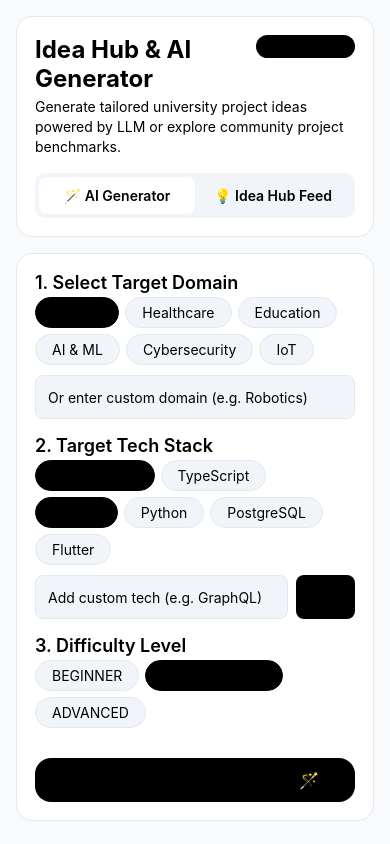
Test: Idea Hub & AI Idea Generator (Phase 4 - Features 11 & 18) › submits idea generation request to POST /ideas/generate and displays result card
Click the text "Generate Project Idea with AI 🪄": x=195, y=780 [71, 770, 319, 790]
(page scrolled)
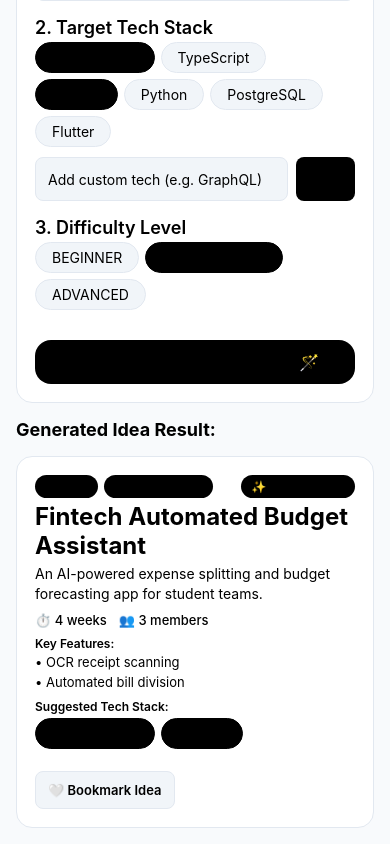
Expected: the text "Fintech Automated Budget Assistant" is shown, [35, 502, 355, 560]
Expected: the text "• OCR receipt scanning" is shown, [35, 654, 180, 670]
